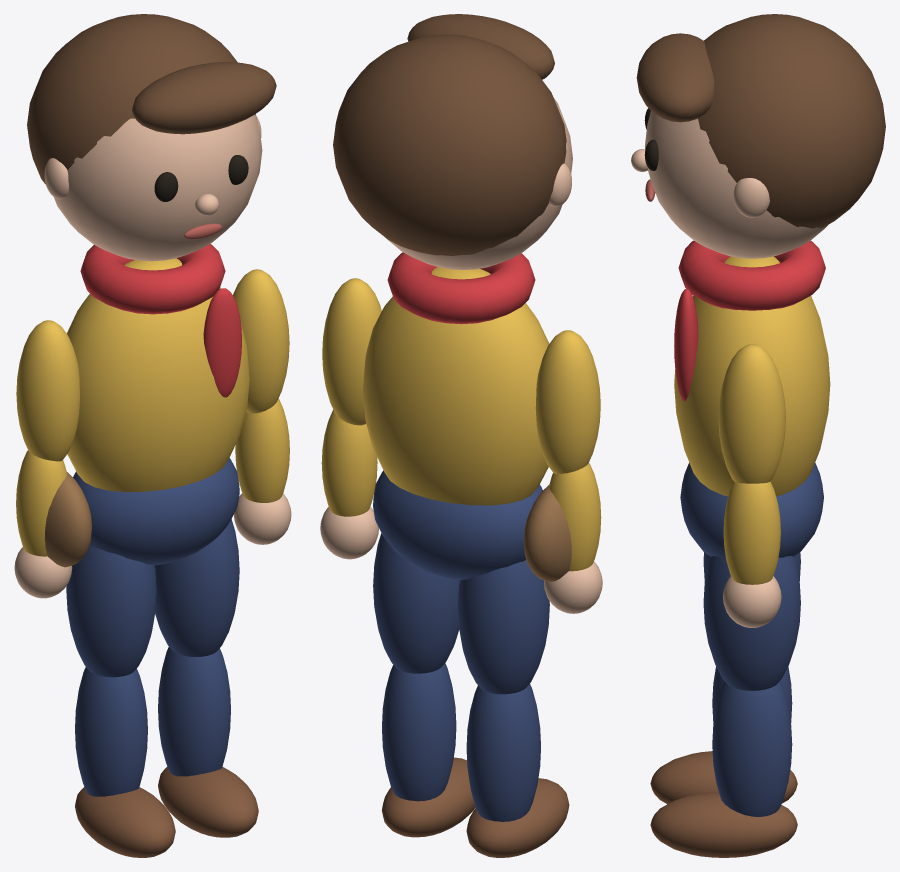
The model's file is kind.glb.
The picture shows the model from 3 angles, left to right: view 1: azimuth 30°, elevation 25°; view 2: azimuth 150°, elevation 25°; view 3: azimuth 270°, elevation 25°; orthographic projection.
Parts seen in each view (by area): view 1: koerper, gesicht, haare, becken, oberschenkel_r, oberschenkel_l, unterschenkel_l, unterschenkel_r, pony, oberarm_r, schal, oberarm_l (+10 smaller); view 2: haare, koerper, becken, oberschenkel_r, unterschenkel_l, unterschenkel_r, oberschenkel_l, oberarm_r, schal, oberarm_l, unterarm_l, schuh_r (+8 smaller); view 3: haare, koerper, gesicht, unterschenkel_l, oberschenkel_l, oberarm_l, schal, schuh_l, becken, pony, unterarm_l, schuh_r (+4 smaller).
Boxes of the visible parts, x1,y1,x2,y2 form: koerper: (67,258,249,492); gesicht: (54,114,262,261); haare: (27,14,255,184); becken: (73,458,239,565); oberschenkel_r: (66,545,156,677); oberschenkel_l: (154,519,239,656); unterschenkel_l: (158,647,230,776); unterschenkel_r: (75,667,147,796); pony: (132,62,276,134); oberarm_r: (16,320,79,461); schal: (80,244,225,314); oberarm_l: (233,269,289,413); haare: (333,34,566,255); koerper: (363,267,549,505); becken: (373,470,542,580); oberschenkel_r: (457,560,549,694); unterschenkel_l: (382,663,456,801); unterschenkel_r: (466,684,540,821); oberschenkel_l: (373,533,459,673); oberarm_r: (535,330,600,474); schal: (387,252,535,324); oberarm_l: (322,278,381,425); unterarm_l: (321,410,377,516); schuh_r: (466,778,569,857); haare: (698,14,885,228); koerper: (674,256,830,496); gesicht: (644,111,827,258); unterschenkel_l: (712,681,792,816); oberschenkel_l: (703,556,800,690); oberarm_l: (718,344,785,483); schal: (678,240,825,310); schuh_l: (650,792,797,857); becken: (680,463,823,557); pony: (636,33,714,122); unterarm_l: (723,481,780,584); schuh_r: (650,751,797,804).
Bounding box in the file's own units: 0.506 × 1.43 × 0.408.
